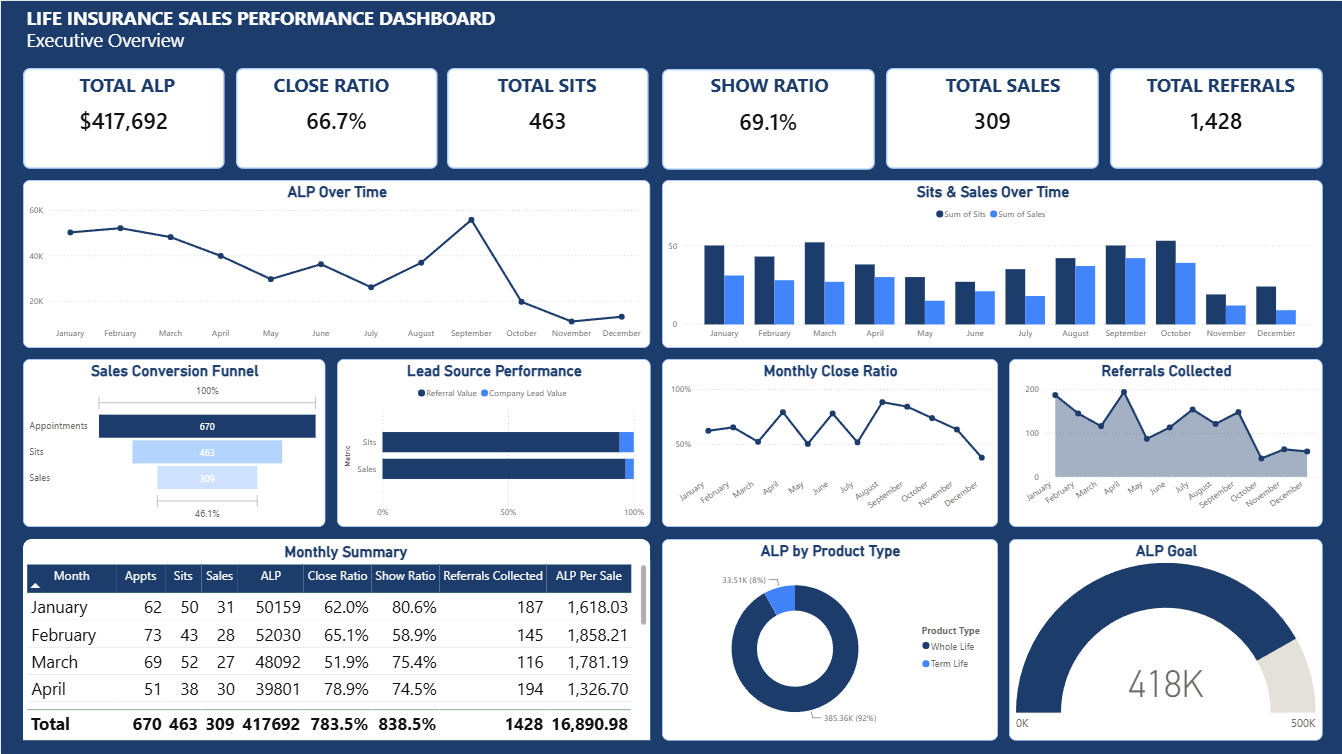

Layout of this report page (visuals, bound fields, positions):
{"tool":"powerbi","page":{"name":"Page 1","canvas":[1920,1080],"ordinal":0},"visuals":[{"type":"shape","box":[32,768,896,48],"z":0},{"type":"textbox","box":[32,0,1152,80],"z":1000},{"type":"textbox","box":[32,32,1504,64],"z":2000},{"type":"cardVisual","fields":{"Data":["PowerBIData.Overall Close Ratio"]},"box":[336,96,288,144],"z":3000},{"type":"cardVisual","fields":{"Data":["PowerBIData.Overall Show Ratio"]},"box":[943.8,97,304,144],"z":4000},{"type":"cardVisual","fields":{"Data":["Sum(PowerBIData.Sales)"]},"box":[1264,96,304,144],"z":5000},{"type":"cardVisual","fields":{"Data":["PowerBIData.Total Referrals"]},"box":[1584,96,304,144],"z":6000},{"type":"cardVisual","fields":{"Data":["Sum(PowerBIData.Sits)"]},"box":[636.7,96,288,144],"z":7000},{"type":"lineChart","title":"ALP Over Time","fields":{"Category":["PowerBIData.Month"],"Y":["Sum(PowerBIData.ALP)"]},"box":[32,256,896,240],"z":8000},{"type":"clusteredColumnChart","title":"Sits & Sales Over Time","fields":{"Category":["PowerBIData.Month"],"Y":["Sum(PowerBIData.Sits)","Sum(PowerBIData.Sales)"]},"box":[944,256,944,240],"z":9000},{"type":"funnel","title":"Sales Conversion Funnel","fields":{"Category":["Funnel Stages.Stage"],"Y":["PowerBIData.Funnel Value"]},"box":[32,512,432,240],"z":10000},{"type":"hundredPercentStackedBarChart","title":"Lead Source Performance","fields":{"Category":["Lead Source Metrics.Metric"],"Y":["PowerBIData.Referral Value","PowerBIData.Company Lead Value"]},"box":[480,512,448,240],"z":11000},{"type":"lineChart","title":"Monthly Close Ratio","fields":{"Category":["PowerBIData.Month"],"Y":["Sum(PowerBIData.Close Ratio)"]},"box":[944,512,480,240],"z":12000},{"type":"lineChart","title":"Referrals Collected","fields":{"Category":["PowerBIData.Month"],"Y":["Sum(PowerBIData.Referrals Collected)"]},"box":[1440,512,448,240],"z":13000},{"type":"tableEx","fields":{"Values":["PowerBIData.Month","Sum(PowerBIData.Appointments Booked)","Sum(PowerBIData.Sits)","Sum(PowerBIData.Sales)","Sum(PowerBIData.ALP)","Sum(PowerBIData.Close Ratio)","Sum(PowerBIData.Show Ratio)","Sum(PowerBIData.Referrals Collected)","Sum(PowerBIData.ALP Per Sale)"]},"box":[32,800,896,256],"z":14000},{"type":"gauge","title":"ALP Goal","fields":{"MaxValue":["PowerBIData.ALP Goal"],"Y":["Sum(PowerBIData.ALP)"]},"box":[1440,768,448,288],"z":15000},{"type":"donutChart","title":"ALP by Product Type","fields":{"Category":["Table (2).Product Type"],"Y":["Sum(Table (2).ALP)"]},"box":[944,768,480,288],"z":16000},{"type":"cardVisual","fields":{"Data":["PowerBIData.Total ALP"]},"box":[32,96,288,144],"z":17000},{"type":"textbox","box":[704,96,264,72],"z":18000},{"type":"textbox","box":[1008,96,216,48],"z":19000},{"type":"textbox","box":[1344,96,176,48],"z":20000},{"type":"textbox","box":[1632,96,264,96],"z":21000},{"type":"textbox","box":[384,96,304,48],"z":22000},{"type":"textbox","box":[24,96,312,72],"z":23000},{"type":"textbox","box":[400,768,304,48],"z":24000}]}

Visuals, with their boxes in screenshot pixels (x1, y1, x2, y2), scaled from the page's 1920x1080 canvas onto the 1342x754 screenshot:
shape: x1=22, y1=536, x2=649, y2=570
textbox: x1=22, y1=0, x2=828, y2=56
textbox: x1=22, y1=22, x2=1074, y2=67
cardVisual - PowerBIData.Overall Close Ratio: x1=235, y1=67, x2=436, y2=168
cardVisual - PowerBIData.Overall Show Ratio: x1=660, y1=68, x2=872, y2=168
cardVisual - Sum(PowerBIData.Sales): x1=883, y1=67, x2=1096, y2=168
cardVisual - PowerBIData.Total Referrals: x1=1107, y1=67, x2=1320, y2=168
cardVisual - Sum(PowerBIData.Sits): x1=445, y1=67, x2=646, y2=168
"ALP Over Time" lineChart: x1=22, y1=179, x2=649, y2=346
"Sits & Sales Over Time" clusteredColumnChart: x1=660, y1=179, x2=1320, y2=346
"Sales Conversion Funnel" funnel: x1=22, y1=357, x2=324, y2=525
"Lead Source Performance" hundredPercentStackedBarChart: x1=336, y1=357, x2=649, y2=525
"Monthly Close Ratio" lineChart: x1=660, y1=357, x2=995, y2=525
"Referrals Collected" lineChart: x1=1006, y1=357, x2=1320, y2=525
tableEx - PowerBIData.Month x Sum(PowerBIData.Appointments Booked): x1=22, y1=559, x2=649, y2=737
"ALP Goal" gauge: x1=1006, y1=536, x2=1320, y2=737
"ALP by Product Type" donutChart: x1=660, y1=536, x2=995, y2=737
cardVisual - PowerBIData.Total ALP: x1=22, y1=67, x2=224, y2=168
textbox: x1=492, y1=67, x2=677, y2=117
textbox: x1=705, y1=67, x2=856, y2=101
textbox: x1=939, y1=67, x2=1062, y2=101
textbox: x1=1141, y1=67, x2=1325, y2=134
textbox: x1=268, y1=67, x2=481, y2=101
textbox: x1=17, y1=67, x2=235, y2=117
textbox: x1=280, y1=536, x2=492, y2=570
